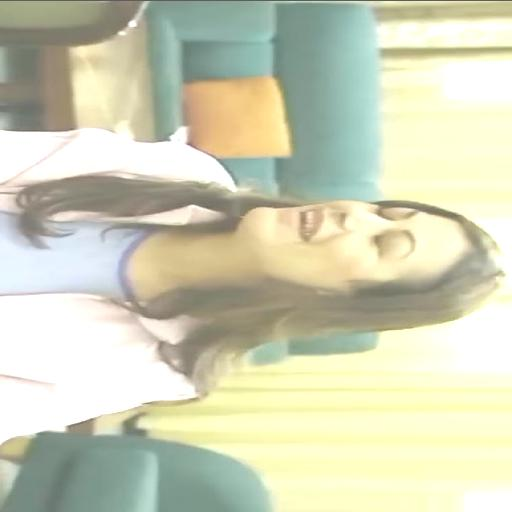zeineb: (222, 200, 468, 294)
